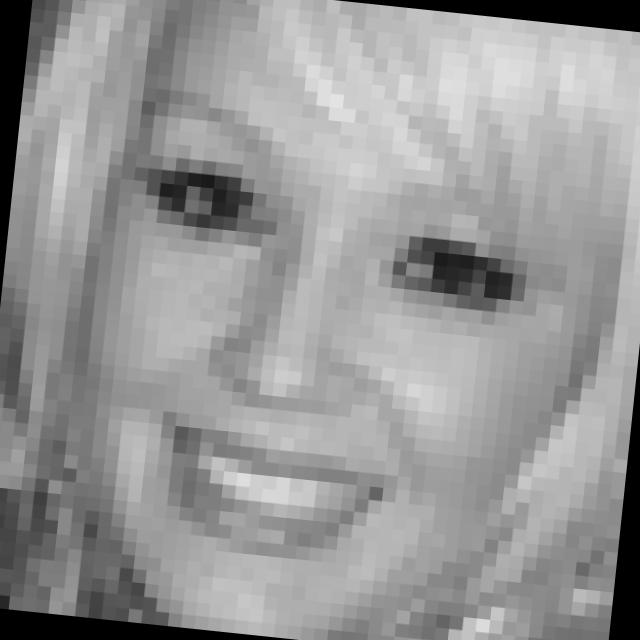happy: (90, 84, 580, 598)
